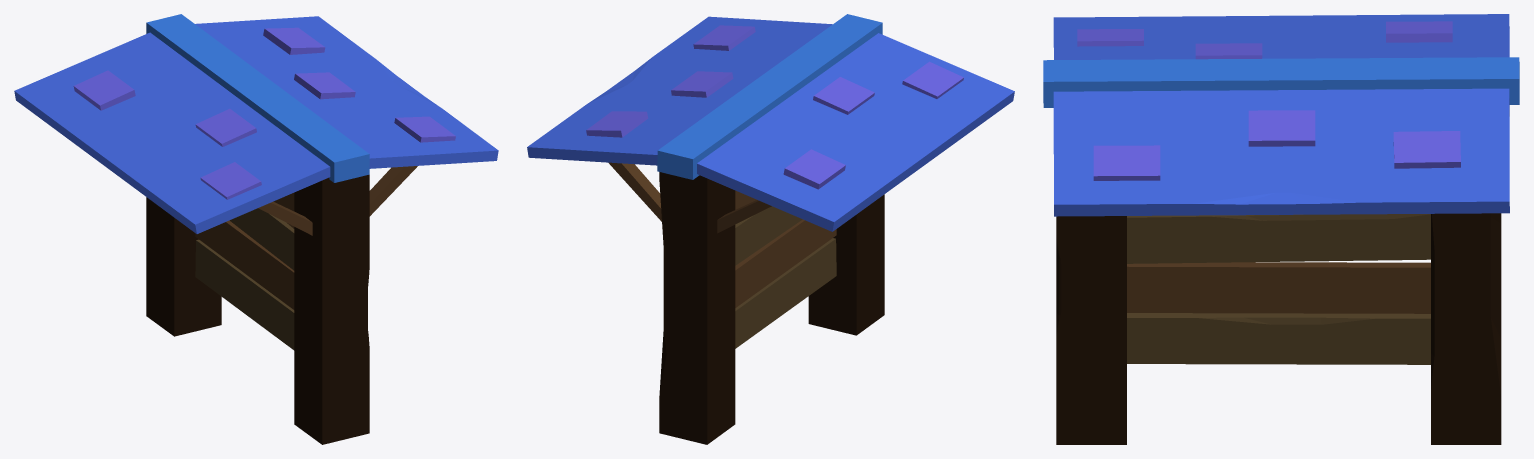
Rendered from MailPost.fbx.
3 renders of one model, left to right at view 1: azimuth 30°, elevation 25°; view 2: azimuth 150°, elevation 25°; view 3: azimuth 270°, elevation 25°, orthographic. The views are drawn at different scales.
Parts seen in each view (by area): view 1: MailPost; view 2: MailPost; view 3: MailPost.
Boxes of the visible parts, left/top/right/bottom form: MailPost: left=14, top=14, right=498, bottom=444; MailPost: left=527, top=14, right=1014, bottom=444; MailPost: left=1043, top=14, right=1519, bottom=444.
Size of the model in its own units: 452 by 407 by 484.
